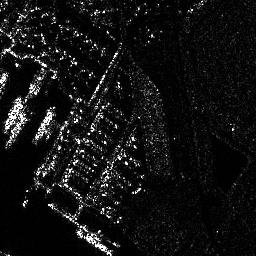ship: (75, 228, 114, 256), (32, 107, 56, 142), (3, 94, 22, 133), (5, 117, 28, 148)
